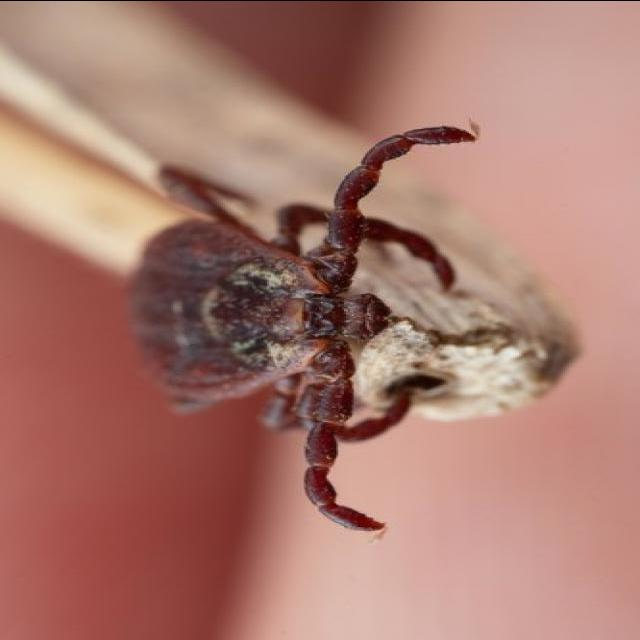Dermacentor Reticulatus-F: (127, 125, 479, 531)
